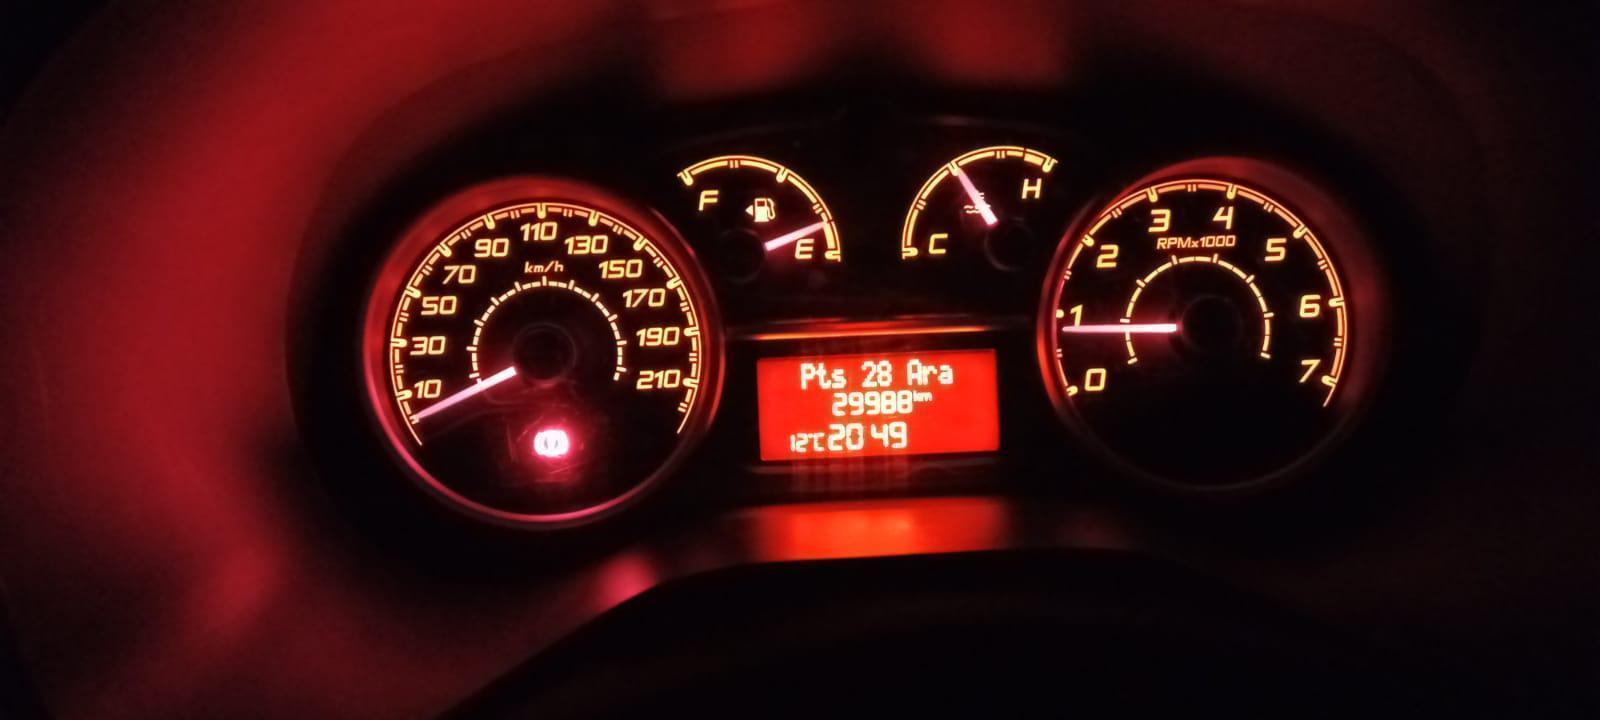0: (846, 421, 864, 450)
1: (789, 432, 795, 456)
4: (869, 422, 889, 448)
7: (828, 420, 845, 451), (859, 359, 877, 385), (831, 393, 847, 416), (795, 431, 807, 452)
8: (877, 357, 892, 385), (880, 389, 896, 414), (897, 388, 912, 414)
9: (889, 420, 907, 448), (847, 390, 863, 416), (865, 390, 880, 414)
X: (906, 358, 922, 385), (799, 362, 815, 390), (815, 362, 831, 390), (831, 367, 849, 388), (922, 364, 938, 385), (938, 364, 953, 385), (813, 431, 824, 451), (913, 389, 922, 402), (922, 391, 933, 402)
odometer: (752, 350, 1006, 459)
